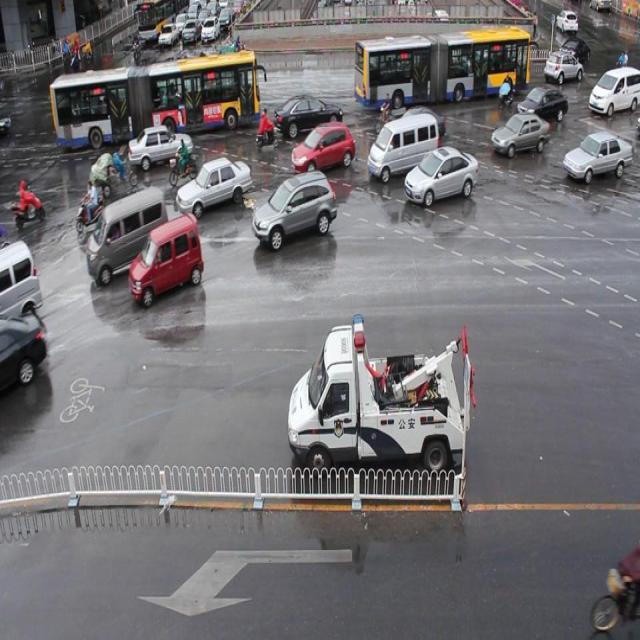bus: (288, 314, 474, 479)
car: (253, 171, 337, 251), (129, 214, 203, 302), (404, 146, 479, 204), (176, 158, 252, 215), (1, 312, 49, 398), (292, 122, 355, 174), (561, 132, 632, 178), (275, 92, 344, 134), (128, 125, 193, 167), (490, 112, 548, 158), (515, 83, 568, 122), (388, 110, 446, 142), (459, 40, 507, 78), (198, 66, 243, 105), (543, 49, 583, 84)
truck: (86, 190, 169, 283), (367, 116, 438, 180), (1, 240, 45, 324)
van: (51, 49, 259, 148), (354, 28, 529, 106)
